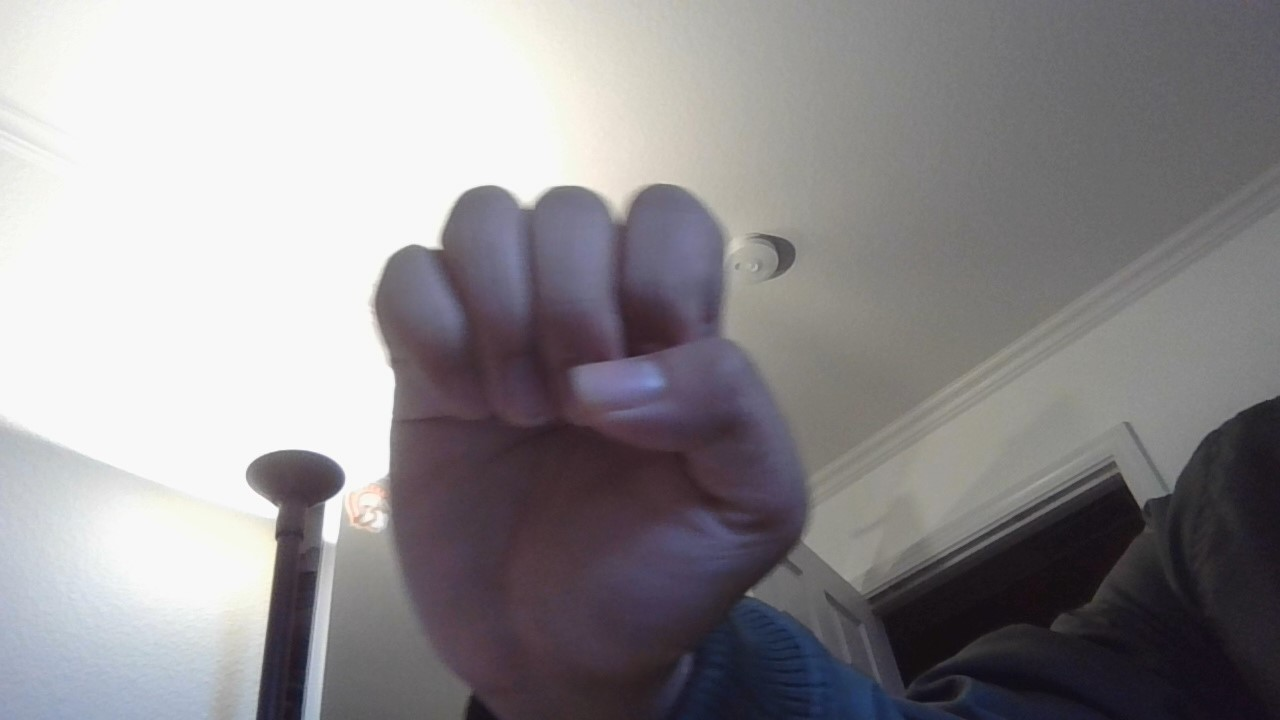e: (314, 162, 857, 697)
